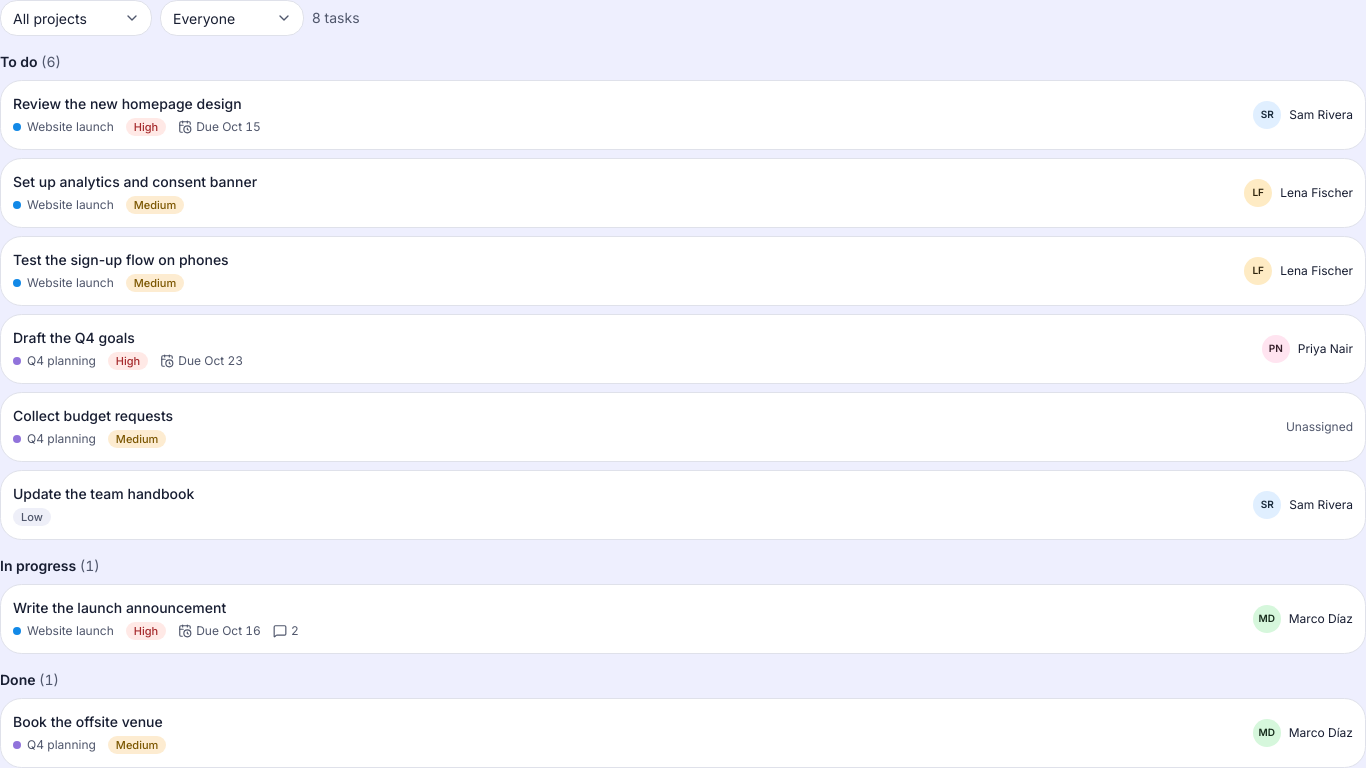
Test: TeamScreen › opening a task shows its comments; a viewer cannot write one
(page scrolled)
Click the button "Write the launch announcement" at [120, 607], box [13,597,1241,641]
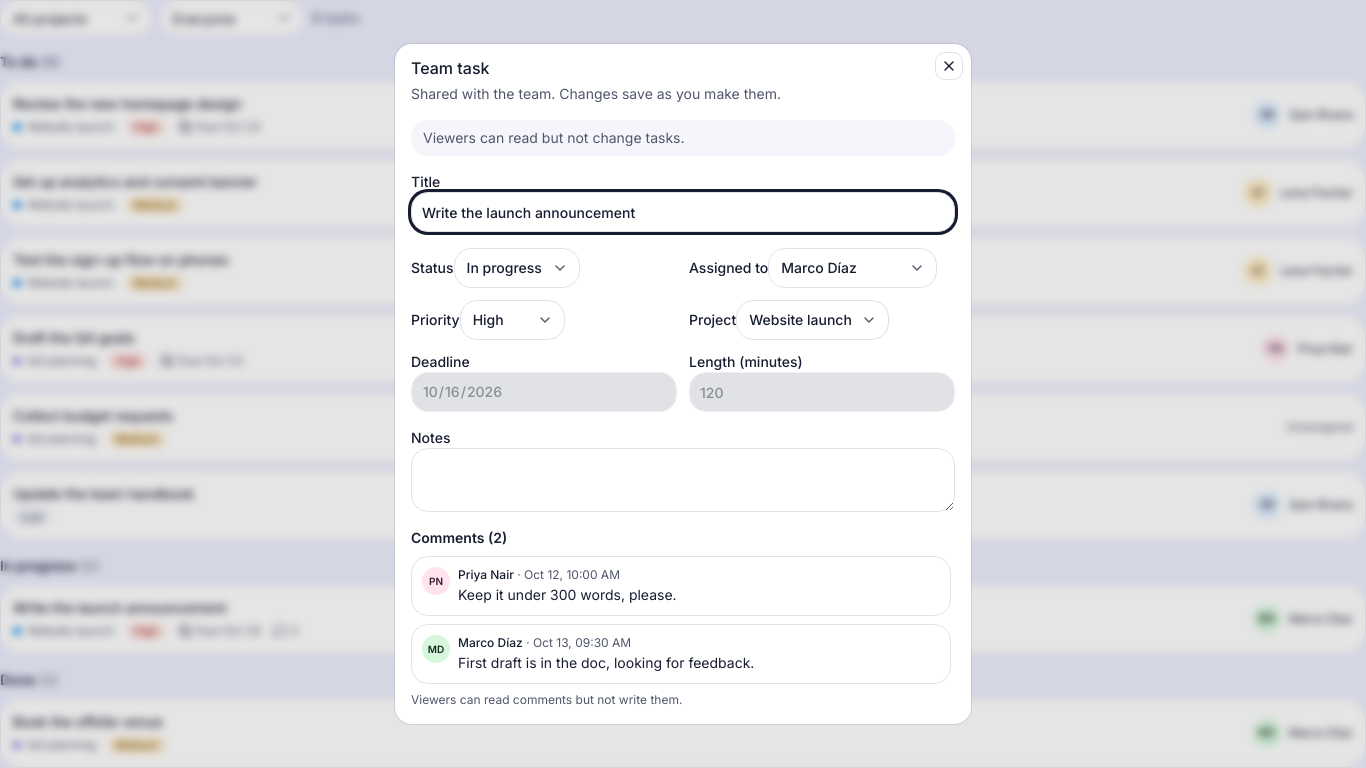
expect the text "Keep it under 300 words, please." is shown: met, box [458,586,677,603]
expect the text "Viewers can read comments but not write them." is shown: met, box [411,692,682,707]
